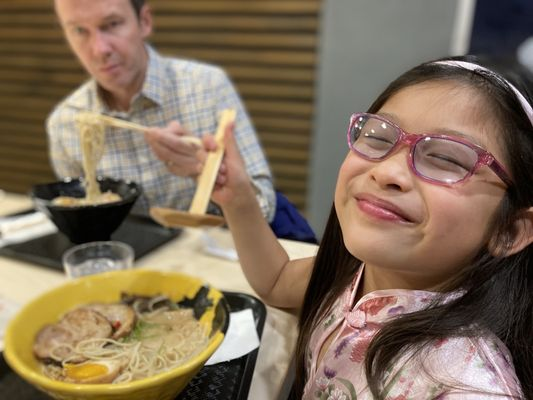pizza: (61, 241, 136, 281)
sushi: (1, 268, 231, 400), (34, 179, 140, 245)
